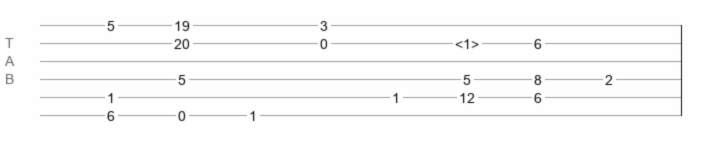0: (178, 108, 186, 118), (320, 36, 328, 46)
1: (107, 90, 115, 100), (249, 108, 257, 118), (392, 90, 400, 100)
12: (459, 90, 475, 100)
19: (174, 18, 190, 28)
2: (605, 72, 613, 82)
20: (174, 36, 190, 46)
3: (320, 18, 328, 28)
5: (107, 18, 115, 28), (178, 72, 186, 82), (463, 72, 471, 82)
6: (107, 108, 115, 118), (534, 36, 542, 46), (534, 90, 542, 100)
8: (534, 72, 542, 82)
harmonic: (455, 36, 479, 46)
